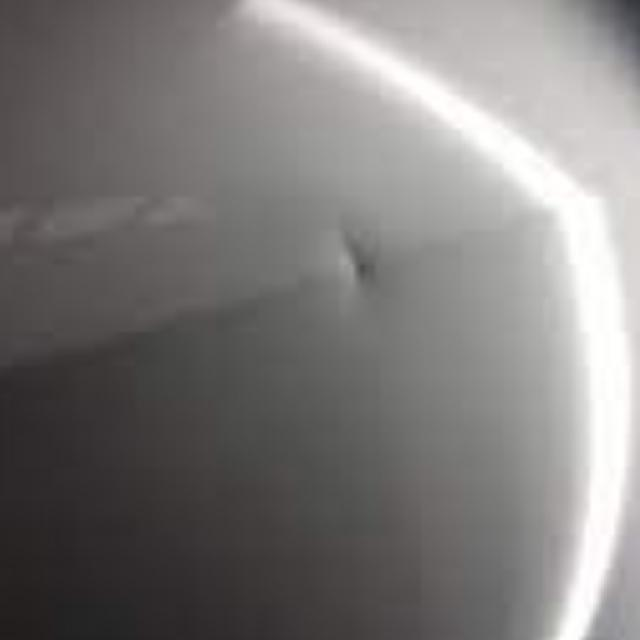dents: (306, 198, 428, 332)
